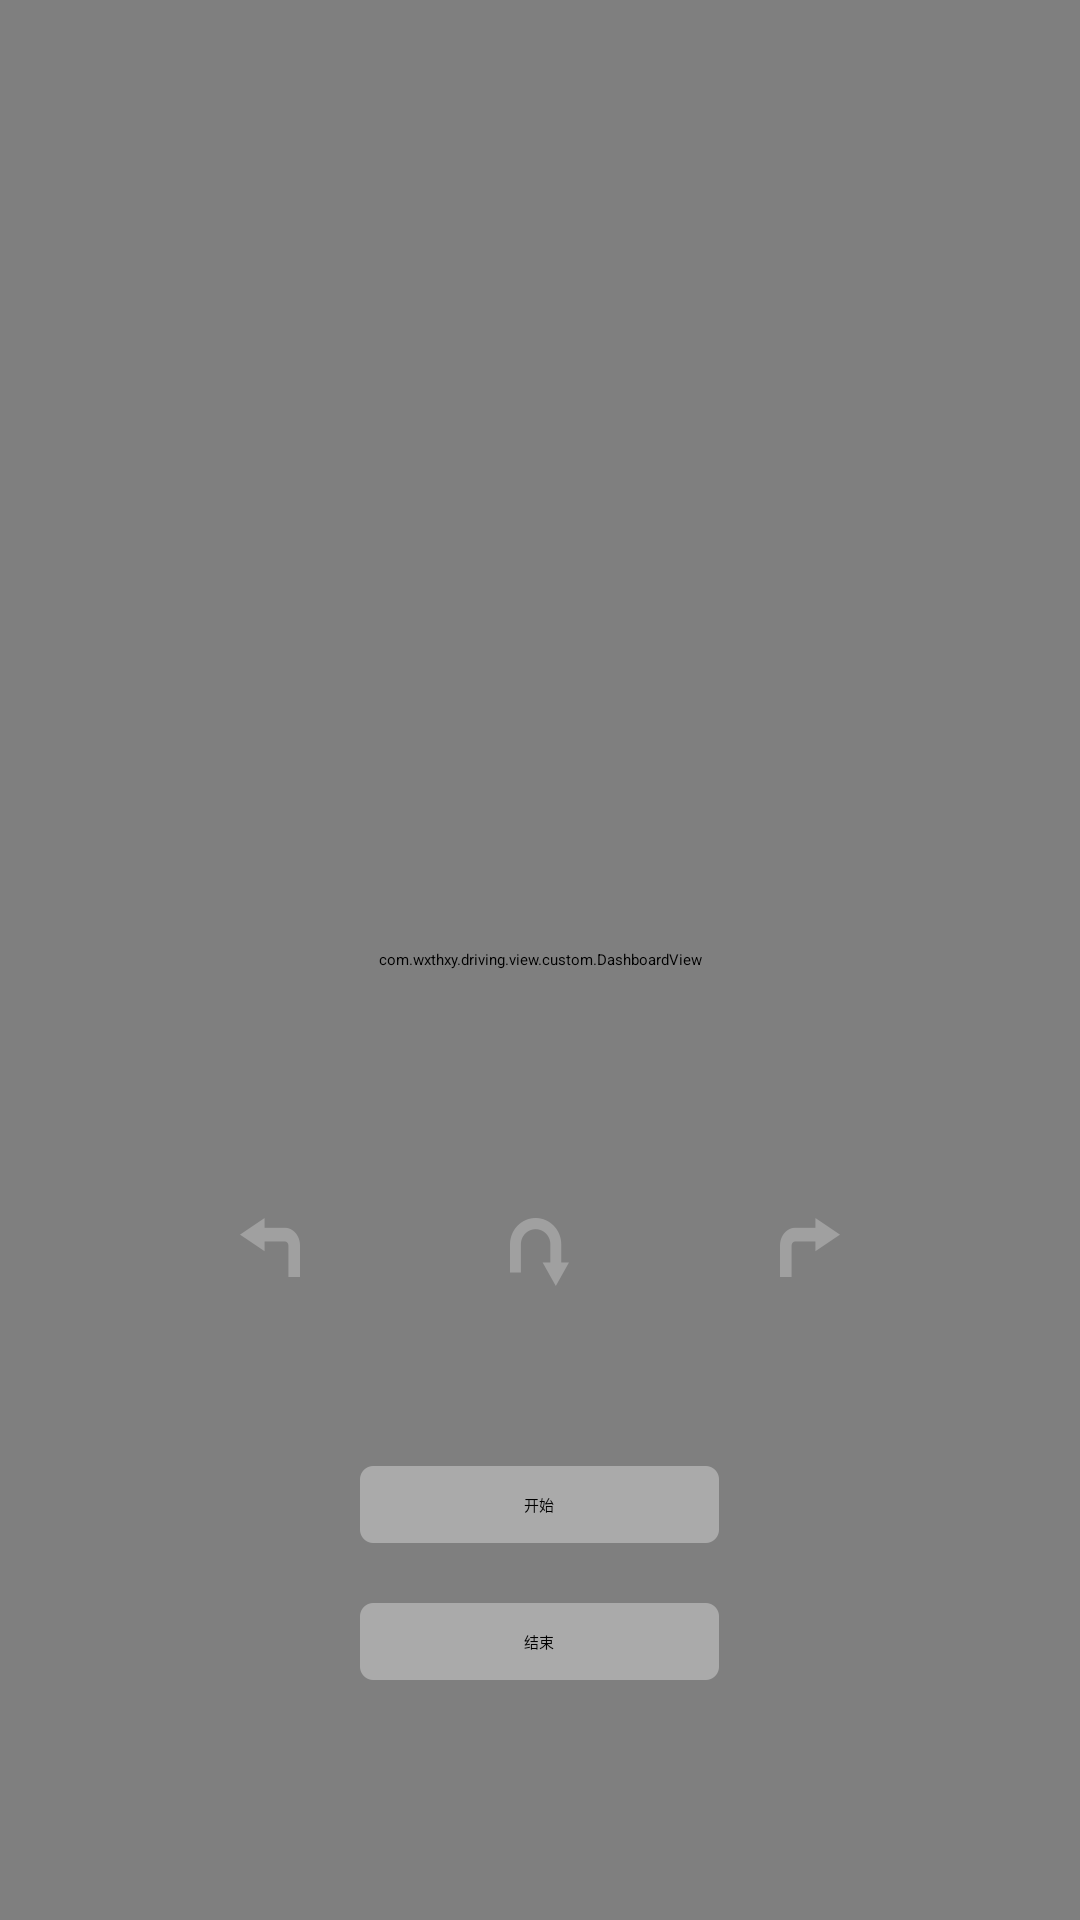

Screen size 1080px×1920px. Icon name, then its box in pixels as (left=x1, top=y1, right=x2, bottom=y2):
gps left: (left=241, top=1219, right=300, bottom=1277)
gps right: (left=780, top=1219, right=839, bottom=1277)
